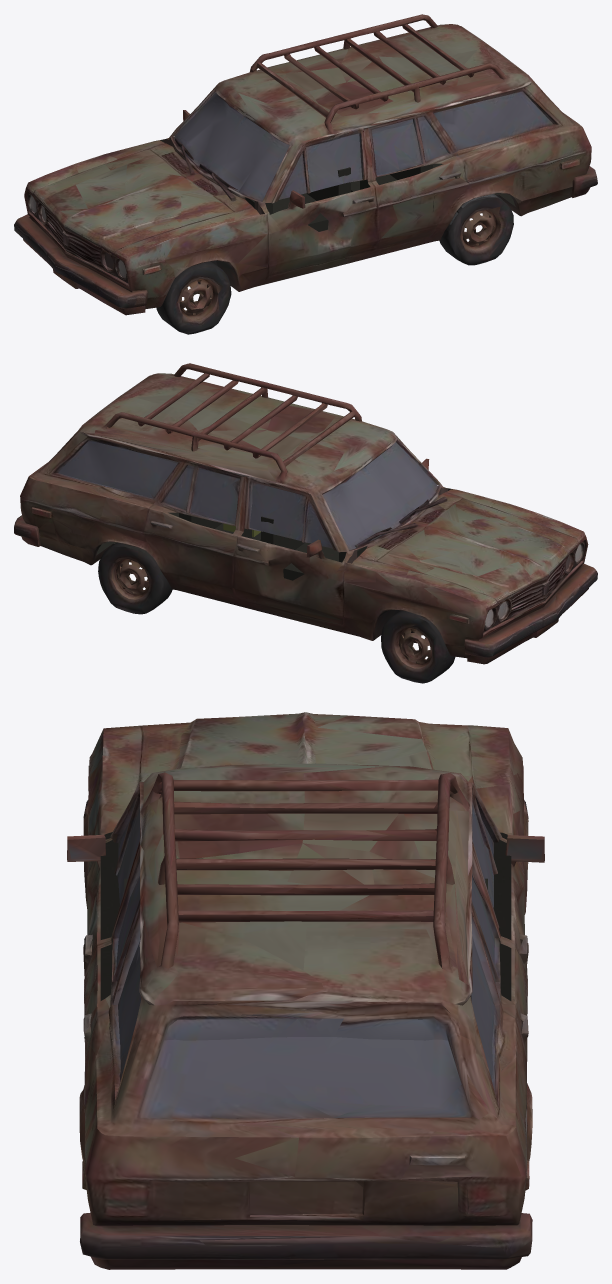
The model's file is car_station_wagon.glb.
3 renders of one model, top to bottom at view 1: azimuth 30°, elevation 25°; view 2: azimuth 150°, elevation 25°; view 3: azimuth 270°, elevation 25°, orthographic. The views are drawn at different scales.
Visible parts, largest first — view 1: body, hood, door_front_1, door_front_2, wheel_1, wheel_3, tailgate; view 2: body, hood, door_back_1, door_back_2, wheel_4, wheel_2, tailgate; view 3: body, tailgate, hood, door_front_1, door_back_1, door_back_2, door_front_2.
Part boxes in pixels (bbox=[...]): body: bbox=[14, 14, 597, 315]; hood: bbox=[37, 143, 250, 252]; door_front_1: bbox=[254, 129, 378, 276]; door_front_2: bbox=[365, 108, 468, 249]; wheel_1: bbox=[156, 261, 231, 334]; wheel_3: bbox=[439, 194, 513, 265]; tailgate: bbox=[541, 89, 596, 183]; body: bbox=[14, 363, 597, 664]; hood: bbox=[361, 492, 573, 601]; door_back_1: bbox=[233, 479, 357, 625]; door_back_2: bbox=[143, 457, 246, 598]; wheel_4: bbox=[98, 542, 172, 614]; wheel_2: bbox=[381, 610, 455, 683]; tailgate: bbox=[14, 438, 70, 532]; body: bbox=[79, 722, 532, 1269]; tailgate: bbox=[80, 1032, 531, 1240]; hood: bbox=[93, 712, 519, 835]; door_front_1: bbox=[67, 784, 140, 978]; door_back_1: bbox=[472, 784, 544, 978]; door_back_2: bbox=[471, 846, 531, 1094]; door_front_2: bbox=[80, 849, 140, 1095].
Size of the model in its own units: 4.8 by 1.71 by 2.02.
Materials: 7 (4 with a texture image).
